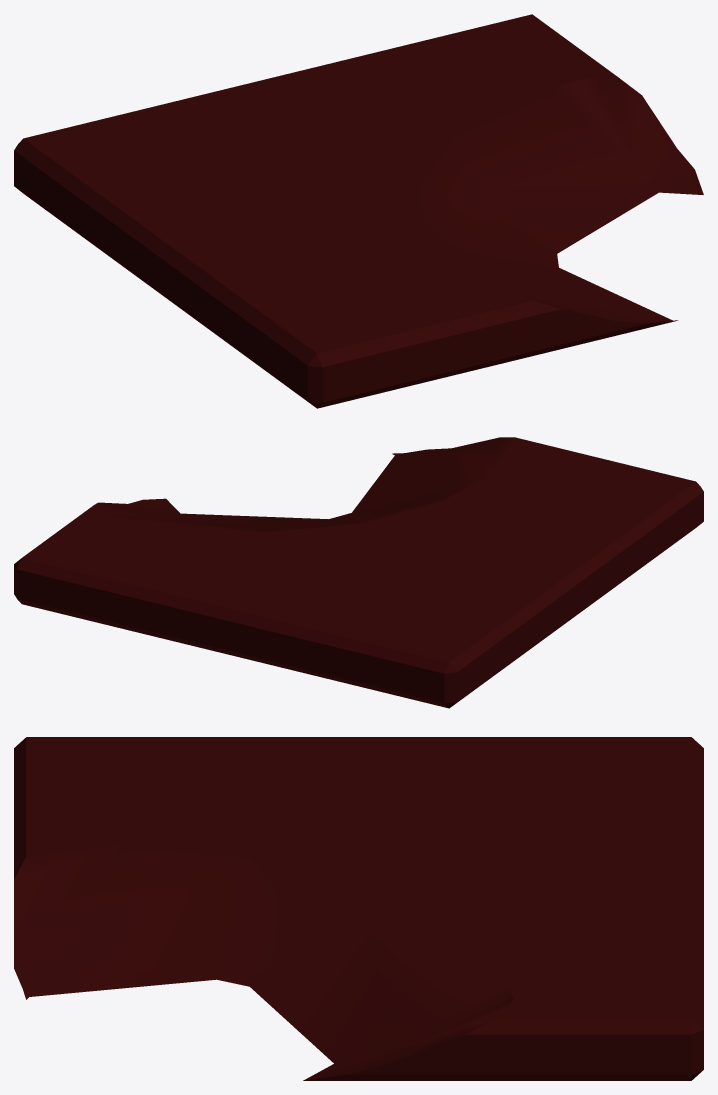
File: slab02.fbx
3 views of the same model, one above another, from view 1: azimuth 30°, elevation 25°; view 2: azimuth 150°, elevation 25°; view 3: azimuth 270°, elevation 25° (orthographic). The views are drawn at different scales.
Parts seen in each view (by area): view 1: slab02; view 2: slab02; view 3: slab02.
Boxes of the visible parts, left/top/right/bottom form: slab02: left=14, top=14, right=703, bottom=408; slab02: left=14, top=437, right=703, bottom=708; slab02: left=14, top=737, right=703, bottom=1080.
Bounding box in the file's own units: 20 × 2 × 20.
